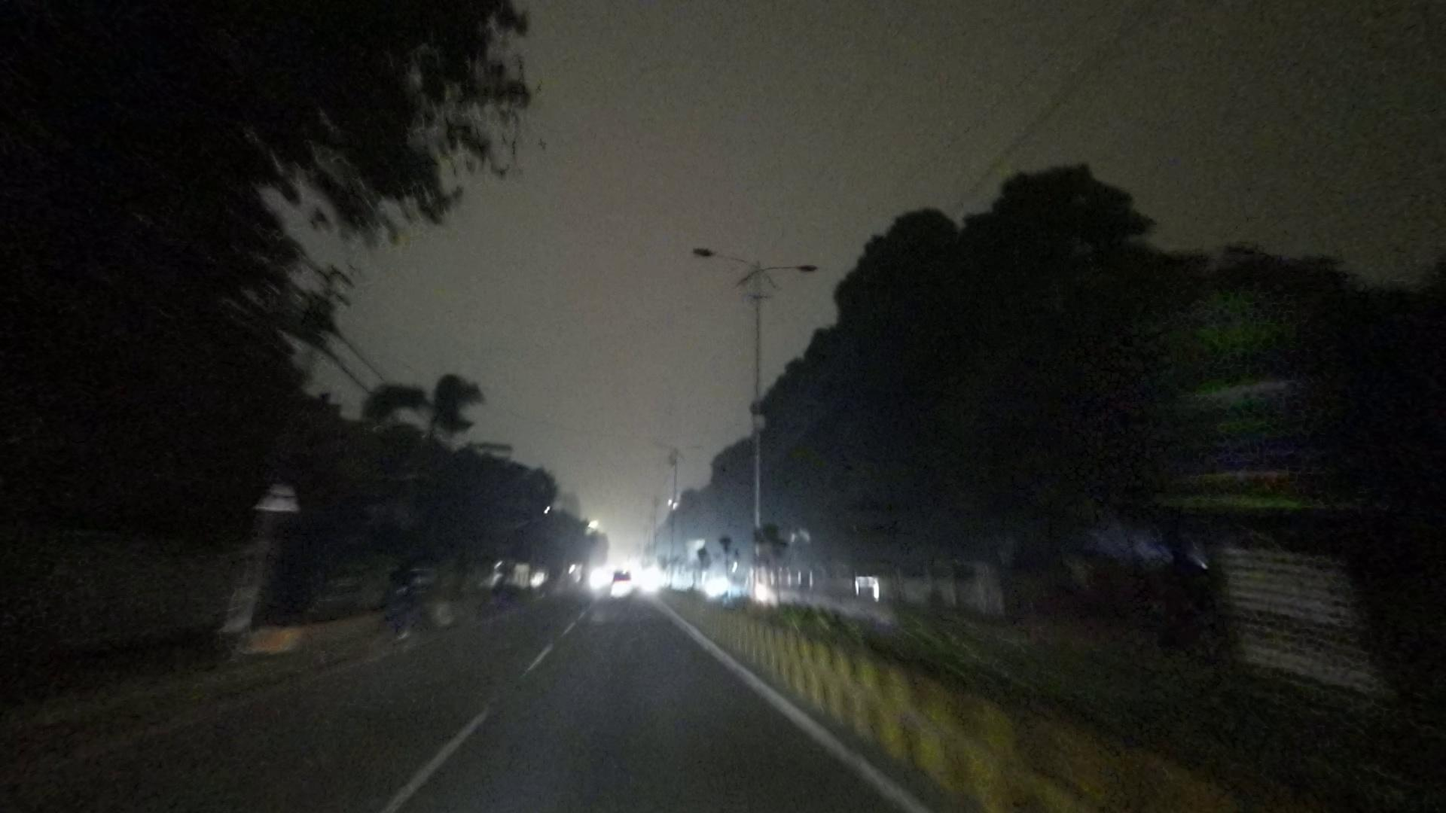streetlight: (691, 245, 758, 268), (763, 259, 820, 277)
